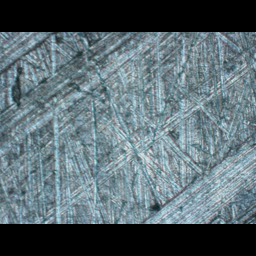d: (0, 31, 164, 160)
